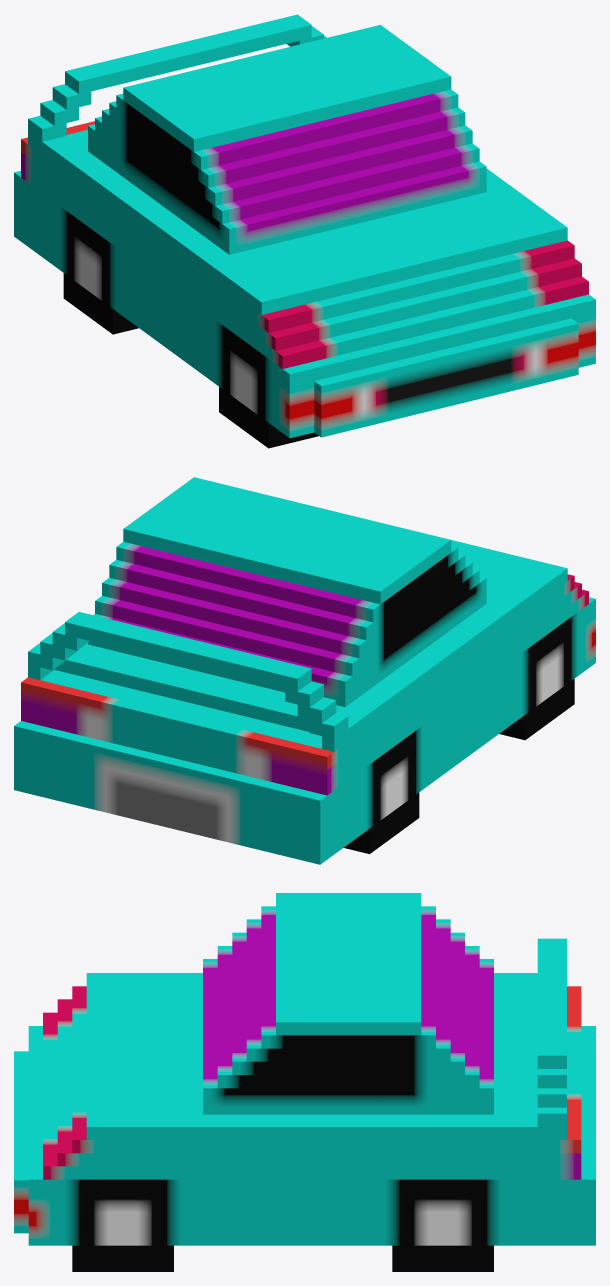
Rendered from Car_9.fbx.
The picture shows the model from 3 angles, top to bottom: view 1: azimuth 30°, elevation 25°; view 2: azimuth 150°, elevation 25°; view 3: azimuth 270°, elevation 25°; orthographic projection. The views are drawn at different scales.
Parts seen in each view (by area): view 1: Car_9; view 2: Car_9; view 3: Car_9.
Boxes of the visible parts, bbox=[...] form: Car_9: bbox=[14, 14, 595, 448]; Car_9: bbox=[14, 477, 595, 864]; Car_9: bbox=[14, 893, 595, 1271].
Bounding box in the file's own units: 25 × 18 × 40.
1 material, 1 textured.
